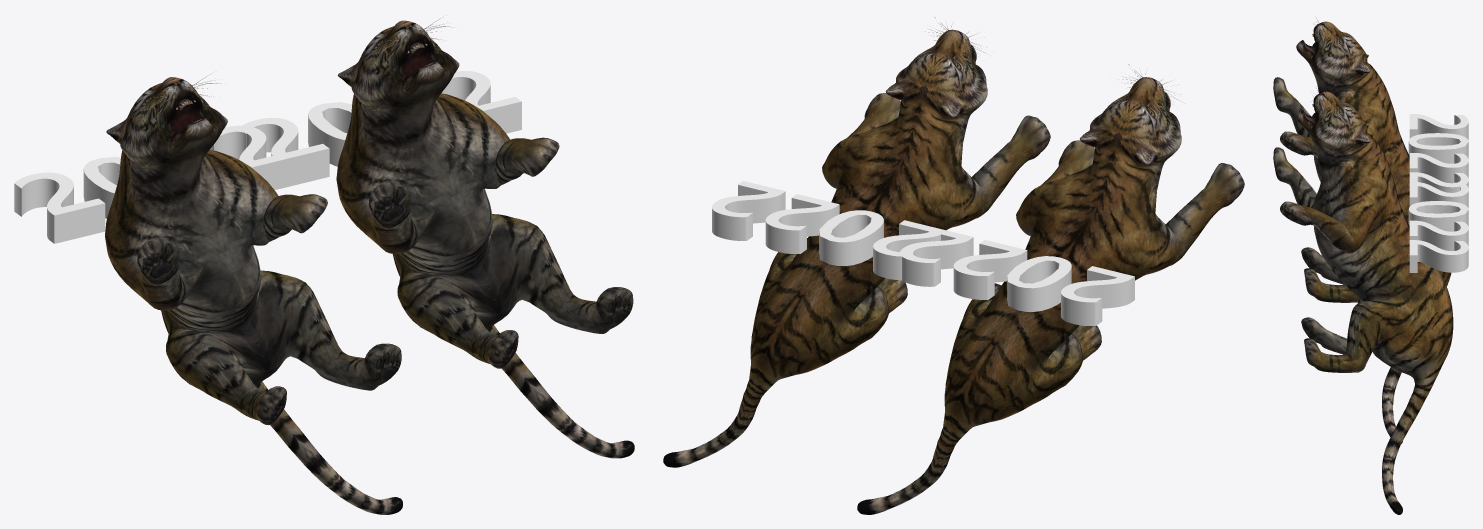
File: asset6.glb
3 renders of one model, left to right at view 1: azimuth 30°, elevation 25°; view 2: azimuth 150°, elevation 25°; view 3: azimuth 270°, elevation 25°, orthographic. The views are drawn at different scales.
Visible parts, largest first — view 1: D1201A12, D1201A12.001, mesh_id38.001, mesh_id38.003; view 2: D1201A12.001, D1201A12, mesh_id38.001, mesh_id38.003; view 3: D1201A12, D1201A12.001, mesh_id38.003, mesh_id38.001.
Part boxes in pixels (x1=…): D1201A12: x1=336, y1=15, x2=634, y2=458; D1201A12.001: x1=105, y1=74, x2=402, y2=514; mesh_id38.001: x1=14, y1=125, x2=297, y2=243; mesh_id38.003: x1=239, y1=71, x2=521, y2=184; D1201A12.001: x1=857, y1=64, x2=1244, y2=514; D1201A12: x1=663, y1=17, x2=1050, y2=467; mesh_id38.001: x1=900, y1=230, x2=1134, y2=325; mesh_id38.003: x1=712, y1=181, x2=946, y2=280; D1201A12: x1=1273, y1=88, x2=1453, y2=514; D1201A12.001: x1=1273, y1=18, x2=1451, y2=443; mesh_id38.003: x1=1408, y1=182, x2=1468, y2=272; mesh_id38.001: x1=1408, y1=114, x2=1468, y2=192.
Size of the model in its own units: 328 by 291 by 151.
Materials: 6 (2 with a texture image).
